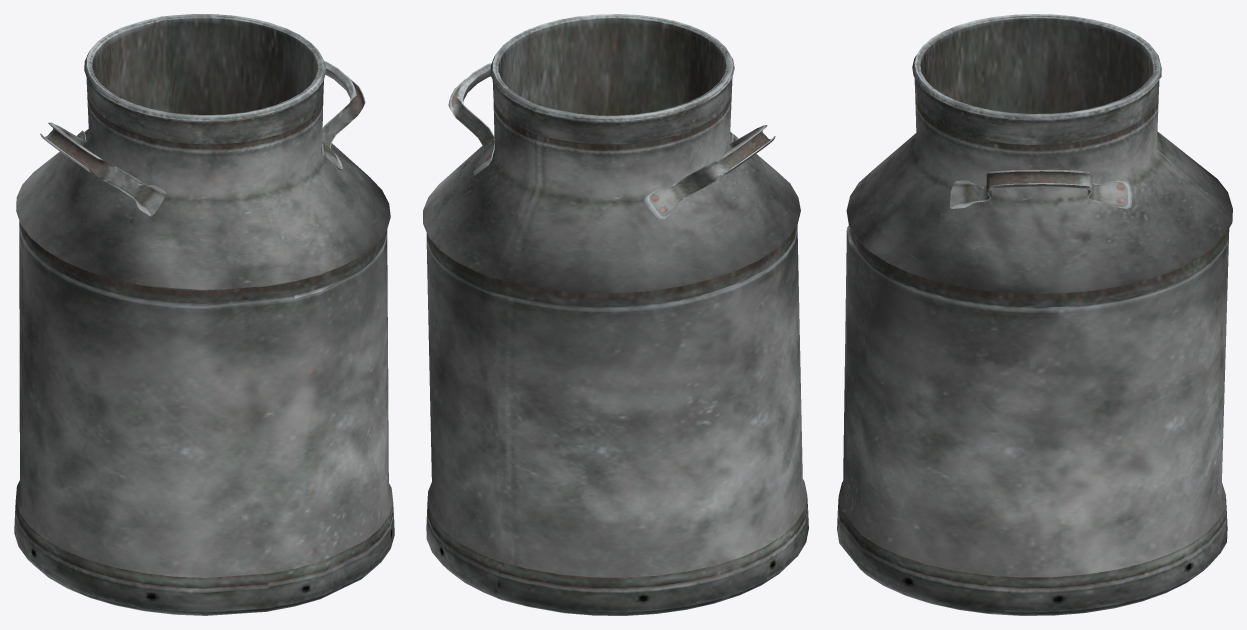
The model's file is Milk_Churn.fbx.
3 renders of one model, left to right at view 1: azimuth 30°, elevation 25°; view 2: azimuth 150°, elevation 25°; view 3: azimuth 270°, elevation 25°, orthographic.
Parts seen in each view (by area): view 1: Milk_Churn; view 2: Milk_Churn; view 3: Milk_Churn.
Part boxes in pixels (left/top/right/bottom): Milk_Churn: left=14, top=14, right=394, bottom=615; Milk_Churn: left=423, top=14, right=808, bottom=615; Milk_Churn: left=837, top=14, right=1232, bottom=615.
Size of the model in its own units: 248 by 257 by 341.
